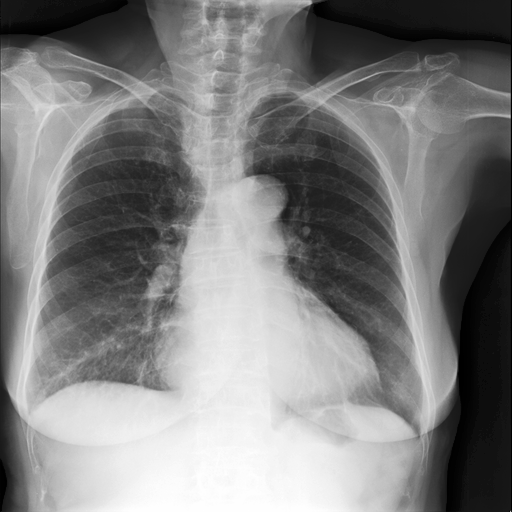Calcification: (127, 87, 190, 100), (243, 93, 294, 105)
Consolidation: (231, 174, 291, 217)
Nodule/Mass: (150, 339, 371, 403)
